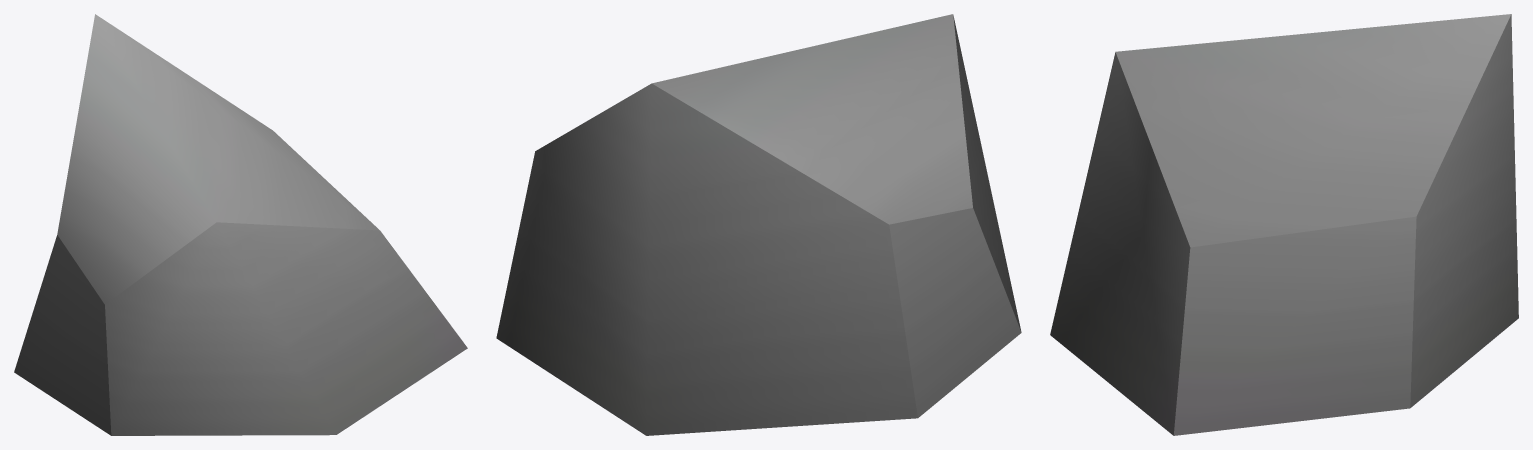
3 renders of one model, left to right at view 1: azimuth 30°, elevation 25°; view 2: azimuth 150°, elevation 25°; view 3: azimuth 270°, elevation 25°, orthographic. The views are drawn at different scales.
Visible parts, largest first — view 1: Rock002; view 2: Rock002; view 3: Rock002.
Boxes of the visible parts, bbox=[...] form: Rock002: bbox=[14, 14, 467, 435]; Rock002: bbox=[496, 14, 1021, 435]; Rock002: bbox=[1050, 14, 1518, 435].
Bounding box in the file's own units: 3.03 × 2.19 × 3.06.
Materials: 1 (1 with a texture image).
